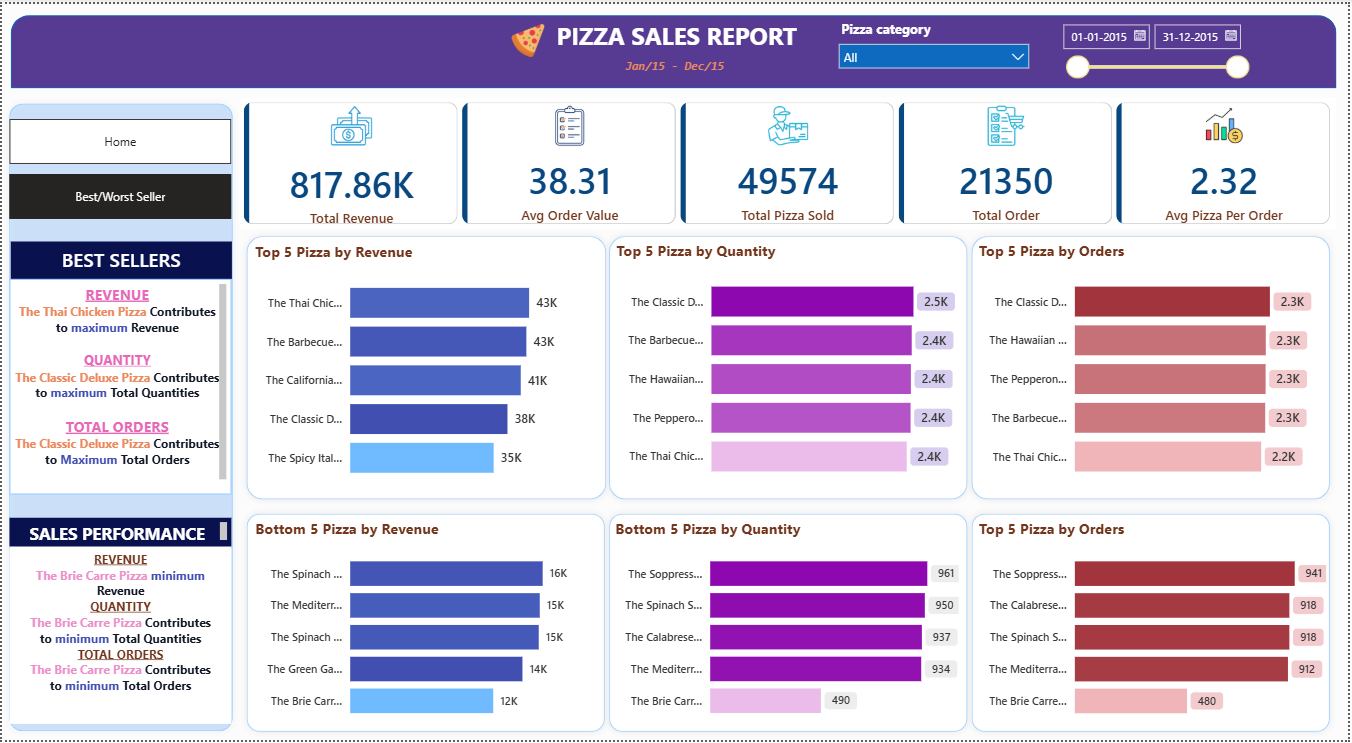

What the dashboard file says about the page in this screenshot:
{"tool":"powerbi","page":{"name":"Best/Worst Seller","canvas":[1500,820],"ordinal":1},"visuals":[{"type":"shape","box":[0,103.8,265,715],"z":0},{"type":"textbox","box":[10,265,246.2,41.2],"z":1000},{"type":"cardVisual","fields":{"Data":["pizza_sales_excel_file.Total Revenue","pizza_sales_excel_file.Avg Order Value","pizza_sales_excel_file.Total Pizza Sold","pizza_sales_excel_file.Total Order","pizza_sales_excel_file.Avg Pizza Per Order"]},"box":[264.6,104.5,1221.4,146.2],"z":2000},{"type":"shape","box":[10,12.9,1477.1,81.4],"z":3000},{"type":"textbox","box":[612.9,12.9,292.9,52.9],"z":4000},{"type":"textbox","box":[681.4,54.3,137.1,30],"z":5000},{"type":"image","box":[567.3,17.3,38.2,48.2],"z":6000},{"type":"shape","box":[264.6,250.7,416.4,309.2],"z":7000},{"type":"shape","box":[668.5,250.7,415,309.2],"z":8000},{"type":"shape","box":[264.6,559.9,415,259],"z":9000},{"type":"shape","box":[1072.4,559.9,415,259],"z":10000},{"type":"shape","box":[668.5,559.9,415,259],"z":11000},{"type":"textbox","box":[8.8,572.5,247.5,32.5],"z":12000},{"type":"textbox","box":[8.8,306.2,247.5,240],"z":13000},{"type":"textbox","box":[8.8,605,247.5,197.5],"z":14000},{"type":"slicer","fields":{"Values":["pizza_sales_excel_file.pizza_category"]},"box":[922.5,12.5,232.5,81.2],"z":15000},{"type":"slicer","fields":{"Values":["pizza_sales_excel_file.order_date"]},"box":[1170,12.5,227.5,92.5],"z":16000},{"type":"shape","box":[1072.4,250.7,415,309.2],"z":17000},{"type":"barChart","title":"Top 5 Pizza by Revenue","fields":{"Category":["pizza_sales_excel_file.pizza_name"],"Y":["pizza_sales_excel_file.Total Revenue"]},"box":[277.1,264.6,391.3,281.3],"z":18000},{"type":"barChart","title":"Bottom 5 Pizza by Revenue","fields":{"Category":["pizza_sales_excel_file.pizza_name"],"Y":["pizza_sales_excel_file.Total Revenue"]},"box":[277,573,391,238],"z":19000},{"type":"barChart","title":"Top 5 Pizza by Quantity","fields":{"Category":["pizza_sales_excel_file.pizza_name"],"Y":["pizza_sales_excel_file.Total Pizza Sold"]},"box":[680,263.8,391.2,281.2],"z":20000},{"type":"barChart","title":"Bottom 5 Pizza by Quantity","fields":{"Category":["pizza_sales_excel_file.pizza_name"],"Y":["pizza_sales_excel_file.Total Pizza Sold"]},"box":[678.6,572.9,392.9,237.9],"z":21000},{"type":"barChart","title":"Top 5 Pizza by Orders","fields":{"Category":["pizza_sales_excel_file.pizza_name"],"Y":["pizza_sales_excel_file.Total Order"]},"box":[1083.5,263.2,396.9,281.3],"z":22000},{"type":"barChart","title":"Top 5 Pizza by Orders","fields":{"Category":["pizza_sales_excel_file.pizza_name"],"Y":["pizza_sales_excel_file.Total Order"]},"box":[1083.5,572.4,396.9,238.1],"z":23000},{"type":"pageNavigator","box":[8.8,128.1,247.5,50],"z":23001},{"type":"pageNavigator","box":[8.8,189.4,247.5,50],"z":23002}]}

Visuals, with their boxes in screenshot pixels (x1, y1, x2, y2), scaled from the page's 1500x820 canvas onto the 1352x743 screenshot:
shape: {"left": 0, "top": 94, "right": 239, "bottom": 742}
textbox: {"left": 9, "top": 240, "right": 231, "bottom": 277}
cardVisual - pizza_sales_excel_file.Total Revenue x pizza_sales_excel_file.Avg Order Value: {"left": 238, "top": 95, "right": 1339, "bottom": 227}
shape: {"left": 9, "top": 12, "right": 1340, "bottom": 85}
textbox: {"left": 552, "top": 12, "right": 816, "bottom": 60}
textbox: {"left": 614, "top": 49, "right": 738, "bottom": 76}
image: {"left": 511, "top": 16, "right": 546, "bottom": 59}
shape: {"left": 238, "top": 227, "right": 614, "bottom": 507}
shape: {"left": 603, "top": 227, "right": 977, "bottom": 507}
shape: {"left": 238, "top": 507, "right": 613, "bottom": 742}
shape: {"left": 967, "top": 507, "right": 1341, "bottom": 742}
shape: {"left": 603, "top": 507, "right": 977, "bottom": 742}
textbox: {"left": 8, "top": 519, "right": 231, "bottom": 548}
textbox: {"left": 8, "top": 277, "right": 231, "bottom": 495}
textbox: {"left": 8, "top": 548, "right": 231, "bottom": 727}
slicer - pizza_sales_excel_file.pizza_category: {"left": 831, "top": 11, "right": 1041, "bottom": 85}
slicer - pizza_sales_excel_file.order_date: {"left": 1055, "top": 11, "right": 1260, "bottom": 95}
shape: {"left": 967, "top": 227, "right": 1341, "bottom": 507}
"Top 5 Pizza by Revenue" barChart: {"left": 250, "top": 240, "right": 602, "bottom": 495}
"Bottom 5 Pizza by Revenue" barChart: {"left": 250, "top": 519, "right": 602, "bottom": 735}
"Top 5 Pizza by Quantity" barChart: {"left": 613, "top": 239, "right": 966, "bottom": 494}
"Bottom 5 Pizza by Quantity" barChart: {"left": 612, "top": 519, "right": 966, "bottom": 735}
"Top 5 Pizza by Orders" barChart: {"left": 977, "top": 238, "right": 1334, "bottom": 493}
"Top 5 Pizza by Orders" barChart: {"left": 977, "top": 519, "right": 1334, "bottom": 734}
pageNavigator: {"left": 8, "top": 116, "right": 231, "bottom": 161}
pageNavigator: {"left": 8, "top": 172, "right": 231, "bottom": 217}
